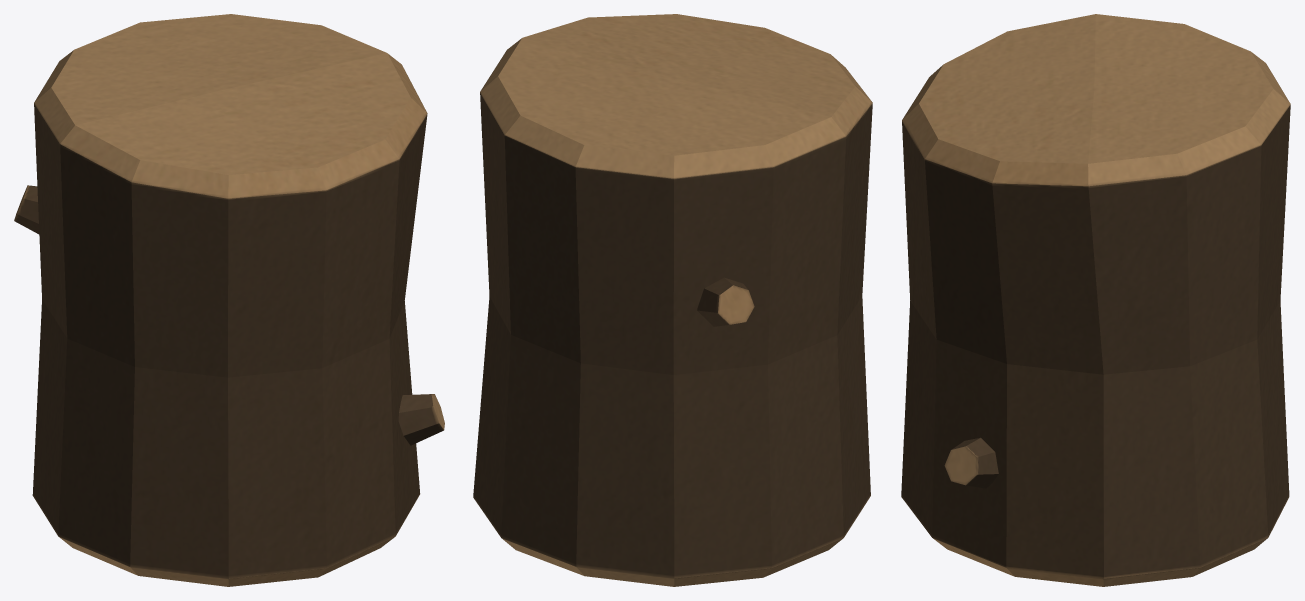
File: Log_Stool_02.fbx
3 renders of one model, left to right at view 1: azimuth 30°, elevation 25°; view 2: azimuth 150°, elevation 25°; view 3: azimuth 270°, elevation 25°, orthographic.
Parts seen in each view (by area): view 1: Log_Stool_02; view 2: Log_Stool_02; view 3: Log_Stool_02.
Part boxes in pixels (left/top/right/bottom): Log_Stool_02: left=14, top=14, right=444, bottom=586; Log_Stool_02: left=473, top=14, right=872, bottom=586; Log_Stool_02: left=901, top=14, right=1290, bottom=586.
Size of the model in its own units: 43.86 by 52.66 by 43.94.
